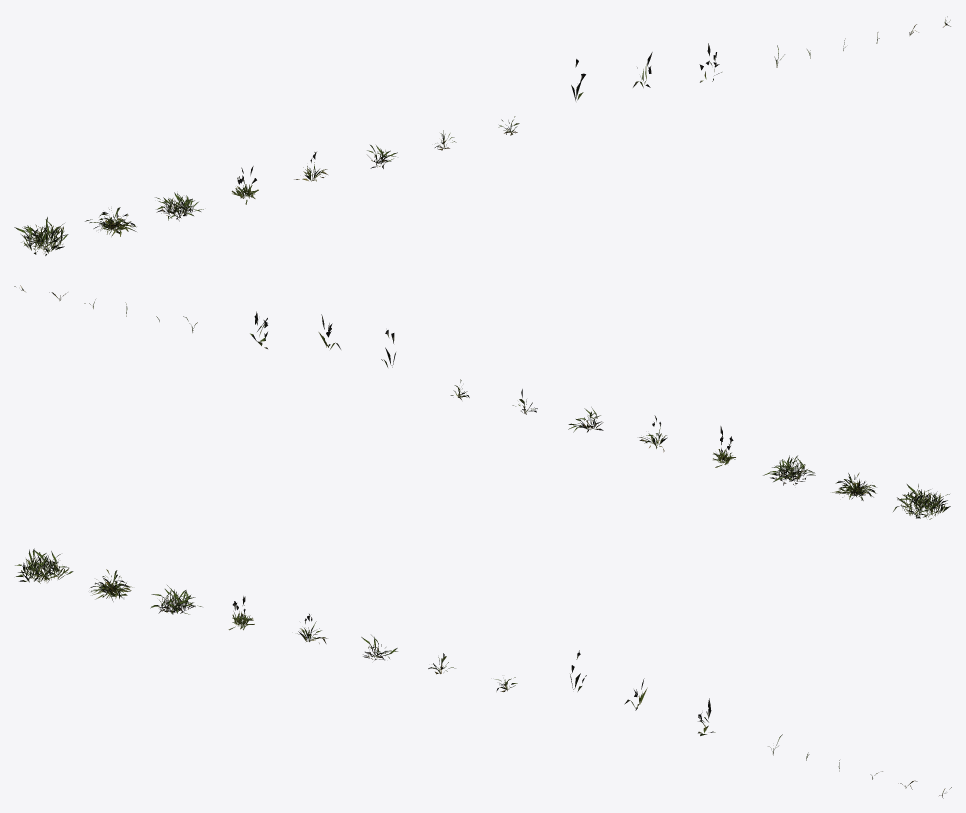
The model's file is grass-tuft.glb.
The picture shows the model from 3 angles, top to bottom: view 1: azimuth 30°, elevation 25°; view 2: azimuth 150°, elevation 25°; view 3: azimuth 330°, elevation 25°; orthographic projection.
Visible parts, largest first — view 1: grass_medium_01_large_a_LOD0, grass_medium_01_large_c_LOD0; view 2: grass_medium_01_large_a_LOD0, grass_medium_01_large_c_LOD0; view 3: grass_medium_01_large_a_LOD0, grass_medium_01_large_c_LOD0, grass_medium_01_large_b_LOD0.
Boxes of the visible parts, box(x1,y1,x2,y2) form: grass_medium_01_large_a_LOD0: box(14, 217, 68, 255); grass_medium_01_large_c_LOD0: box(155, 192, 203, 221); grass_medium_01_large_a_LOD0: box(893, 484, 950, 519); grass_medium_01_large_c_LOD0: box(763, 455, 815, 485); grass_medium_01_large_a_LOD0: box(15, 548, 73, 583); grass_medium_01_large_c_LOD0: box(150, 585, 201, 614); grass_medium_01_large_b_LOD0: box(90, 569, 132, 601).
Bounding box in the file's own units: 5.61 × 0.3283 × 0.3166.
1 material, 1 textured.
